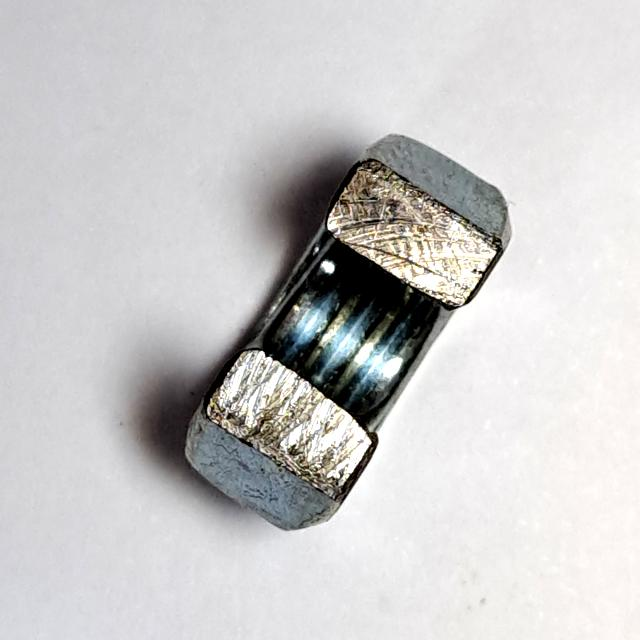Side-Fracture: (171, 130, 522, 545)
